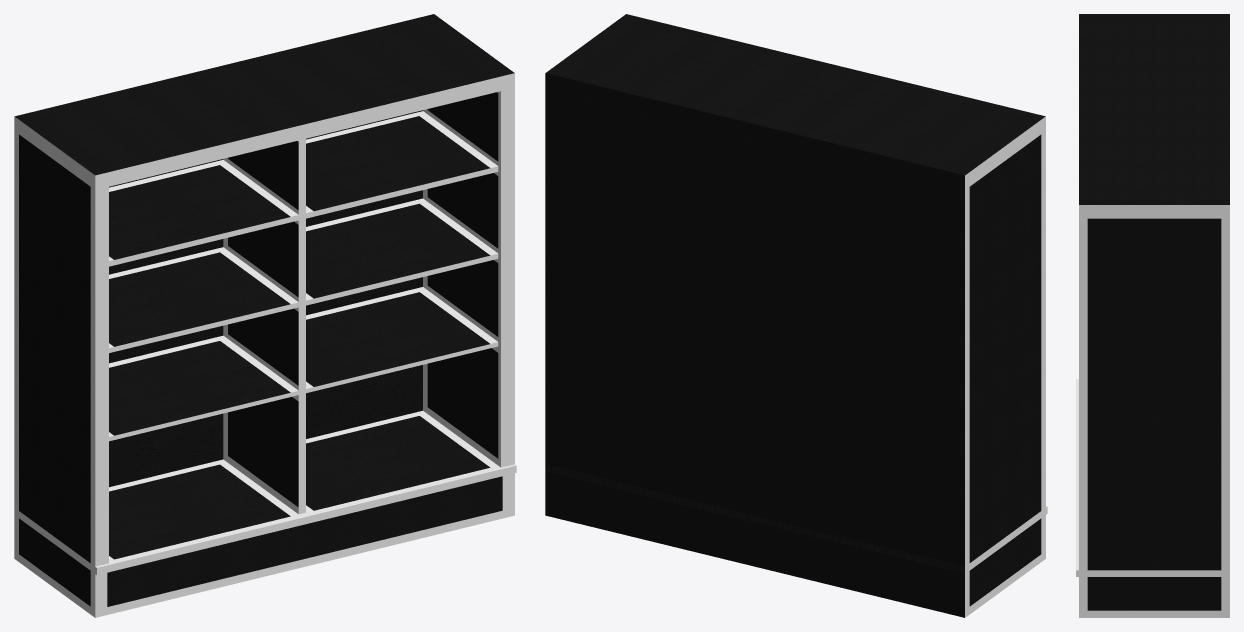
Rendered from Shelf_02.FBX.
3 views of the same model, side by side, from view 1: azimuth 30°, elevation 25°; view 2: azimuth 150°, elevation 25°; view 3: azimuth 270°, elevation 25° (orthographic). The views are drawn at different scales.
Visible parts, largest first — view 1: Shelf_02; view 2: Shelf_02; view 3: Shelf_02.
Boxes of the visible parts, x1=… form: Shelf_02: x1=14, y1=14, x2=516, y2=617; Shelf_02: x1=545, y1=14, x2=1047, y2=617; Shelf_02: x1=1076, y1=14, x2=1229, y2=617.
Size of the model in its own units: 118 by 119 by 40.16.
